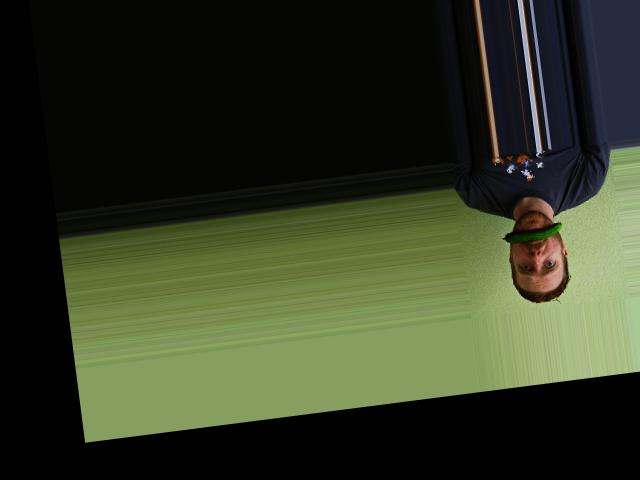cucumber: (501, 221, 564, 244)
